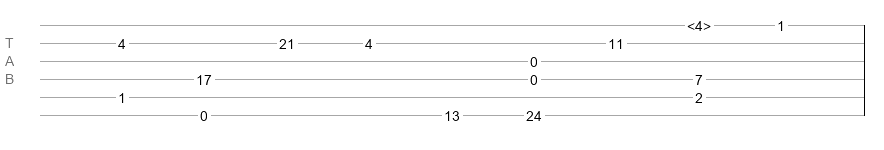0: (200, 108, 208, 118), (530, 72, 538, 82), (530, 54, 538, 64)
1: (118, 90, 126, 100), (777, 18, 785, 28)
11: (608, 36, 624, 46)
13: (444, 108, 460, 118)
17: (196, 72, 212, 82)
2: (695, 90, 703, 100)
21: (279, 36, 295, 46)
24: (526, 108, 542, 118)
4: (118, 36, 126, 46), (365, 36, 373, 46)
7: (695, 72, 703, 82)
harmonic: (687, 18, 711, 28)
